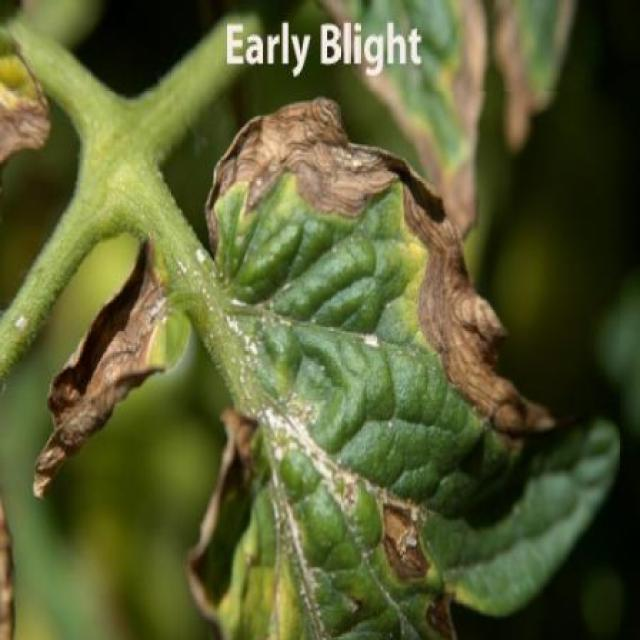Early Blight: (180, 91, 620, 640)
